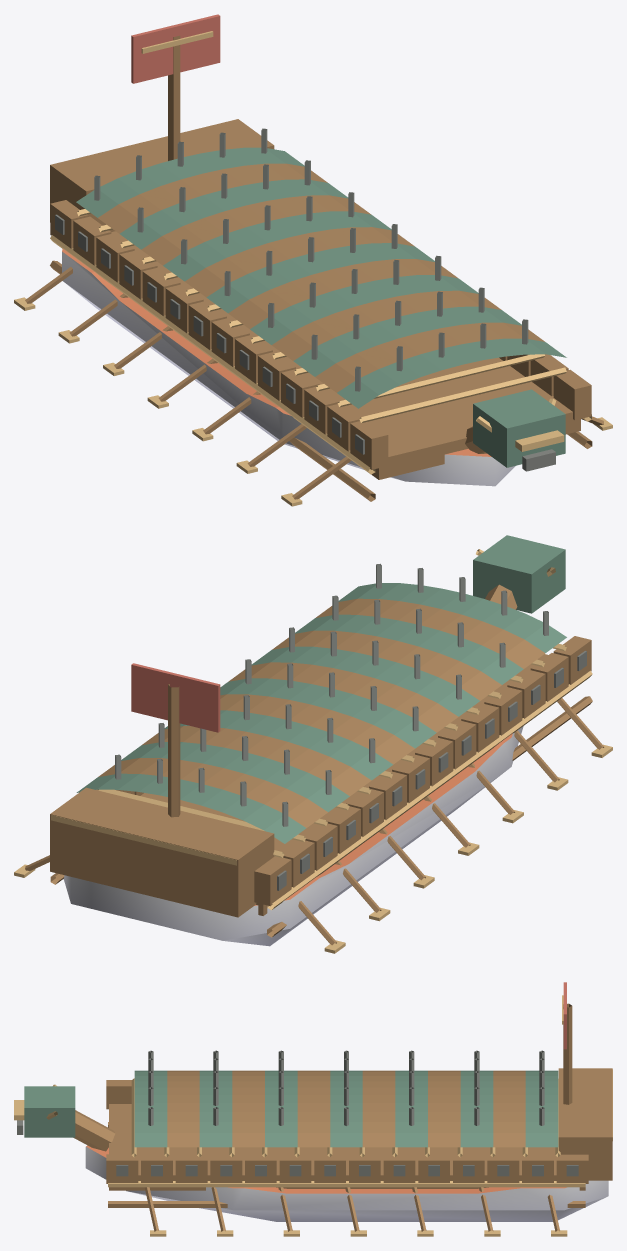
File: geobukseon-custom.glb
3 renders of one model, top to bottom at view 1: azimuth 30°, elevation 25°; view 2: azimuth 150°, elevation 25°; view 3: azimuth 270°, elevation 25°, orthographic. The views are drawn at different scales.
Parts seen in each view (by area): view 1: geobukseon wood, geobukseon green, boat-row-large, geobukseon gold, geobukseon metal, geobukseon red, geobukseon dark; view 2: geobukseon wood, geobukseon green, boat-row-large, geobukseon gold, geobukseon metal, geobukseon red, geobukseon dark; view 3: geobukseon wood, geobukseon green, boat-row-large, geobukseon gold, geobukseon metal, geobukseon dark.
Part boxes in pixels (x1,y1,x2,y2): geobukseon wood: (25,35,603,501); geobukseon green: (76,147,566,467); boat-row-large: (62,249,515,486); geobukseon gold: (14,31,612,506); geobukseon metal: (94,128,528,391); geobukseon red: (131,14,220,83); geobukseon dark: (55,214,555,471); geobukseon wood: (25,584,603,945); geobukseon green: (76,535,566,843); boat-row-large: (63,726,523,946); geobukseon gold: (14,549,612,953); geobukseon metal: (115,563,548,826); geobukseon red: (131,663,220,732); geobukseon dark: (277,651,586,890); geobukseon wood: (73,1003,612,1231); geobukseon green: (24,1070,558,1147); boat-row-large: (85,1145,608,1221); geobukseon gold: (14,995,612,1236); geobukseon metal: (148,1050,544,1125); geobukseon dark: (17,1120,578,1176).
Size of the model in its own units: 6.82 by 5.2 by 14.7.
Materials: 7 (1 with a texture image).
